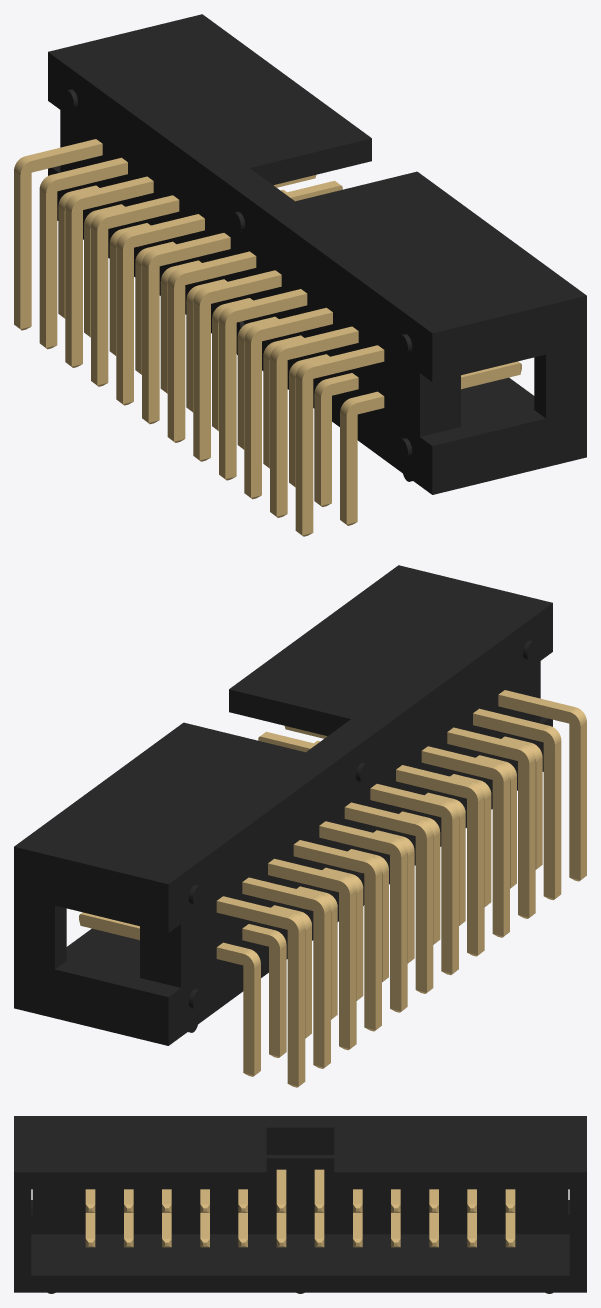
File: kc-idc-header_2x12_p2.54mm_horizontal.glb
The picture shows the model from 3 angles, top to bottom: view 1: azimuth 30°, elevation 25°; view 2: azimuth 150°, elevation 25°; view 3: azimuth 270°, elevation 25°; orthographic projection. The views are drawn at different scales.
Visible parts, largest first — view 1: 0_0_0_0, 0.75_0.5_0.25_0.9; view 2: 0_0_0_0, 0.75_0.5_0.25_0.9; view 3: 0_0_0_0, 0.75_0.5_0.25_0.9.
Part boxes in pixels (<box>): 0_0_0_0: <box>48,14,586,494</box>; 0.75_0.5_0.25_0.9: <box>14,139,521,536</box>; 0_0_0_0: <box>14,565,552,1045</box>; 0.75_0.5_0.25_0.9: <box>79,690,586,1087</box>; 0_0_0_0: <box>14,1116,586,1293</box>; 0.75_0.5_0.25_0.9: <box>85,1169,515,1247</box>.
Bounding box in the file's own units: 1.35 × 1.21 × 3.81.
